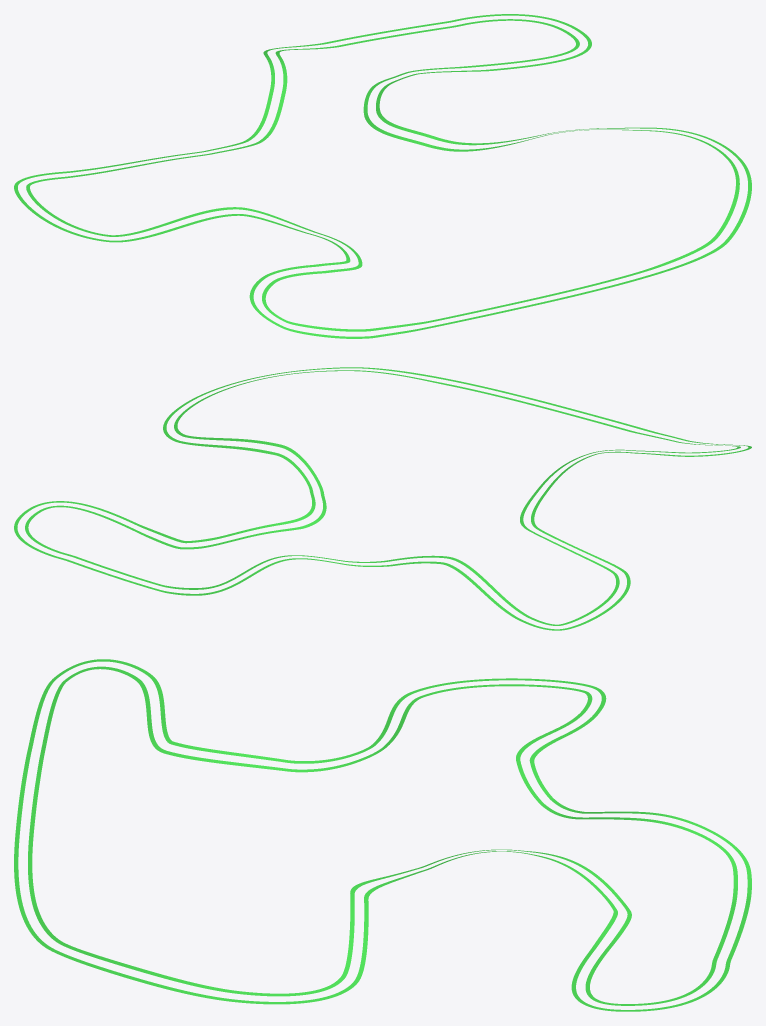
The model's file is OpenRoadGrass.fbx.
The picture shows the model from 3 angles, top to bottom: view 1: azimuth 30°, elevation 25°; view 2: azimuth 150°, elevation 25°; view 3: azimuth 270°, elevation 25°; orthographic projection. The views are drawn at different scales.
Parts seen in each view (by area): view 1: GrassVerge; view 2: GrassVerge; view 3: GrassVerge.
Part boxes in pixels (left/top/right/bottom): GrassVerge: left=14, top=14, right=751, bottom=338; GrassVerge: left=14, top=367, right=751, bottom=630; GrassVerge: left=14, top=659, right=751, bottom=1011.
Size of the model in its own units: 113653 by 6691 by 106343.
